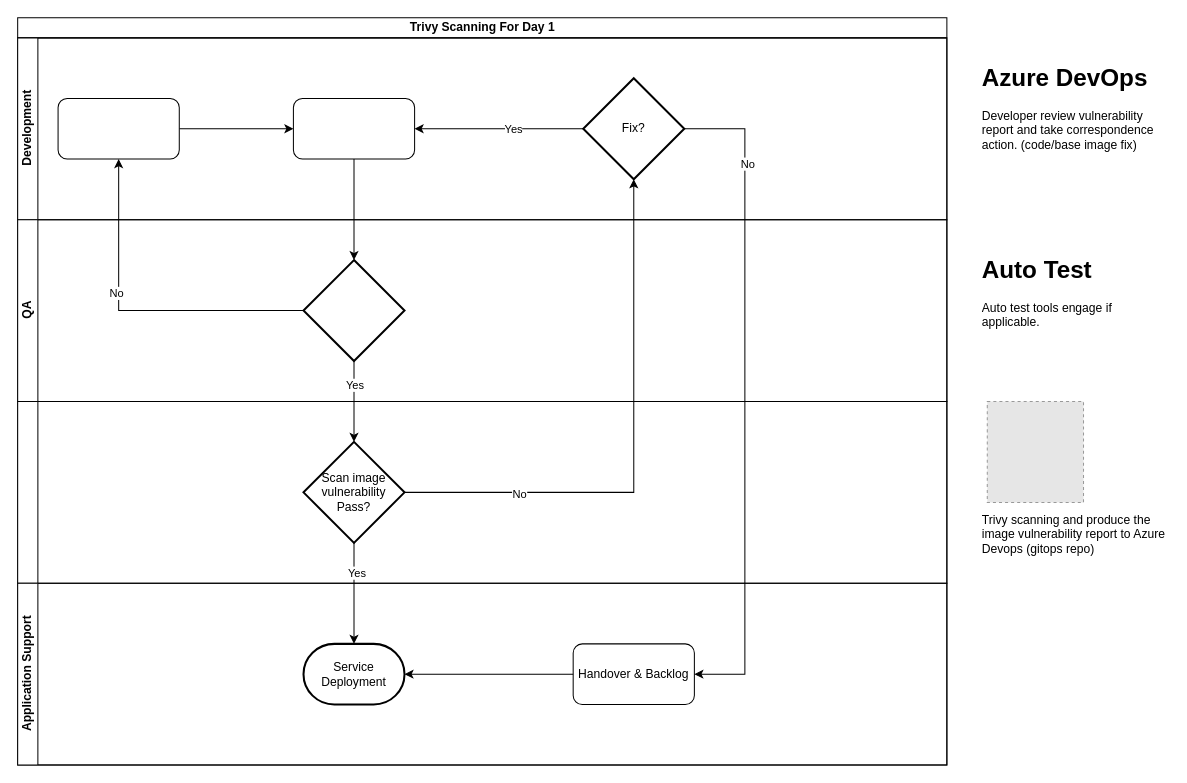
Image size: 1187x783. Some labels were removed from this diagram. Grey dashed boxes stand in for pictures. Here are the shapes that lost their labels. From the top down, the box of each, then its label:
(57, 97, 179, 159): Check-out source code
(292, 97, 415, 159): Build image and upload to Quay
(302, 259, 405, 362): QA Test Pass?
(17, 400, 947, 583): DevOps
